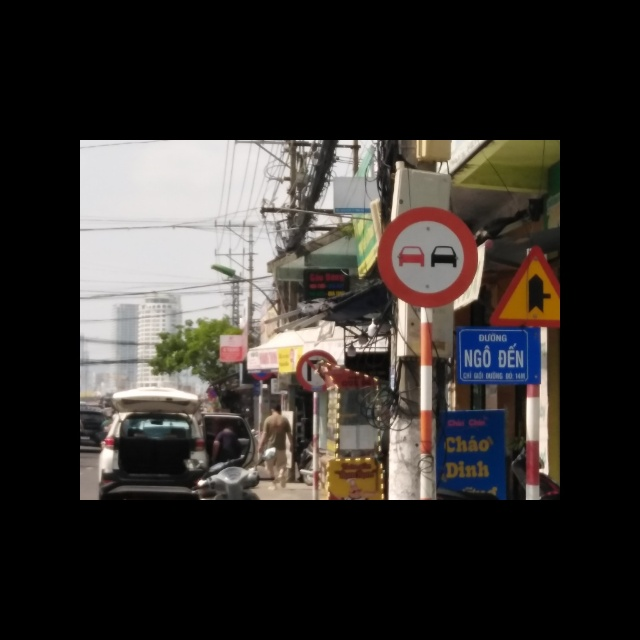Cấm vượt: (375, 205, 478, 308)
Giao nhau với đường không ưu tiên: (487, 241, 560, 327)
